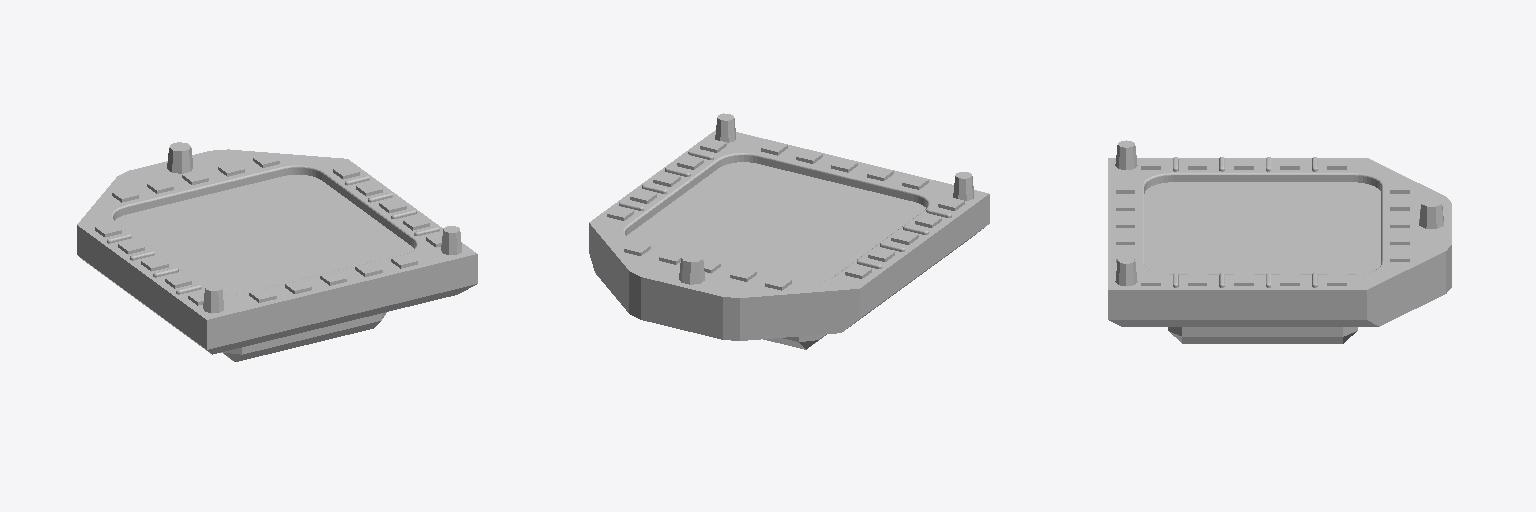
File: Displayer_bkp.obj
The picture shows the model from 3 angles: view 1: azimuth 30°, elevation 25°; view 2: azimuth 150°, elevation 25°; view 3: azimuth 270°, elevation 25°; orthographic projection.
Parts seen in each view (by area): view 1: Displayer.001; view 2: Displayer.001; view 3: Displayer.001.
Part boxes in pixels (bbox=[...]): Displayer.001: bbox=[77, 142, 477, 361]; Displayer.001: bbox=[589, 113, 989, 349]; Displayer.001: bbox=[1108, 140, 1451, 343].
Size of the model in its own units: 0.33 by 0.125 by 0.364.